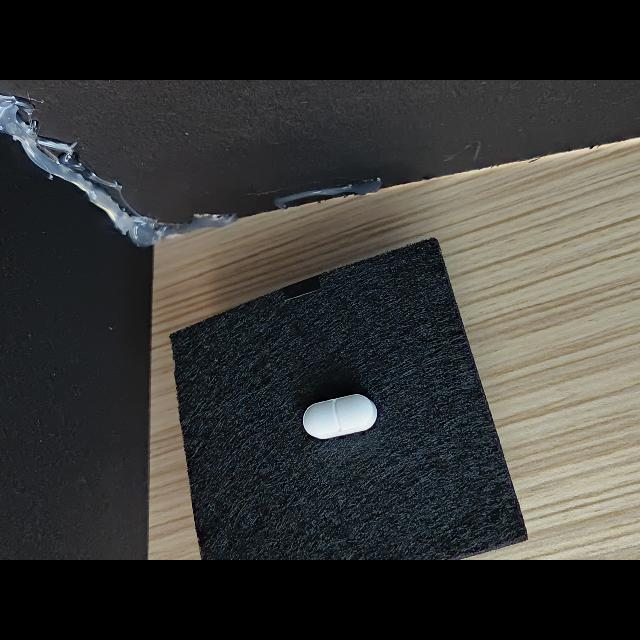Intact Pill: (303, 394, 377, 439)
